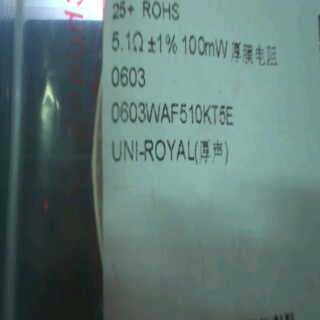5.1R: (111, 25, 146, 60)
